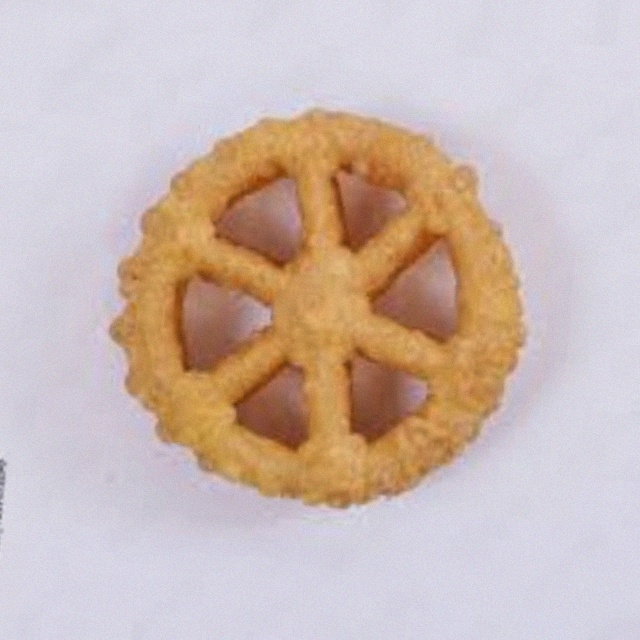Kokis: (96, 121, 544, 519)
